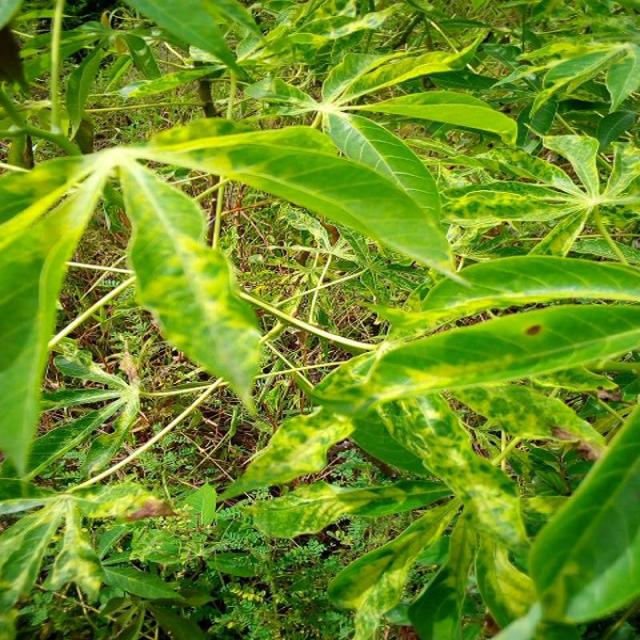Mosaico: (232, 337, 568, 639), (60, 127, 326, 403), (448, 129, 640, 258), (10, 496, 200, 587)
